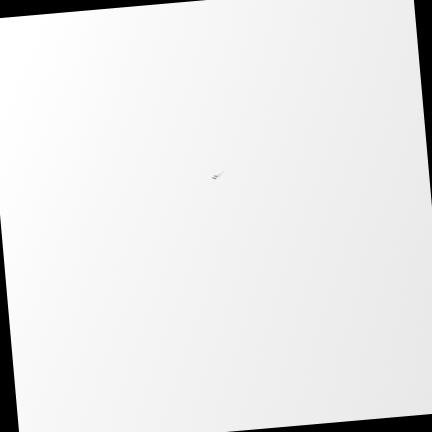Shahed: (209, 170, 223, 185)
